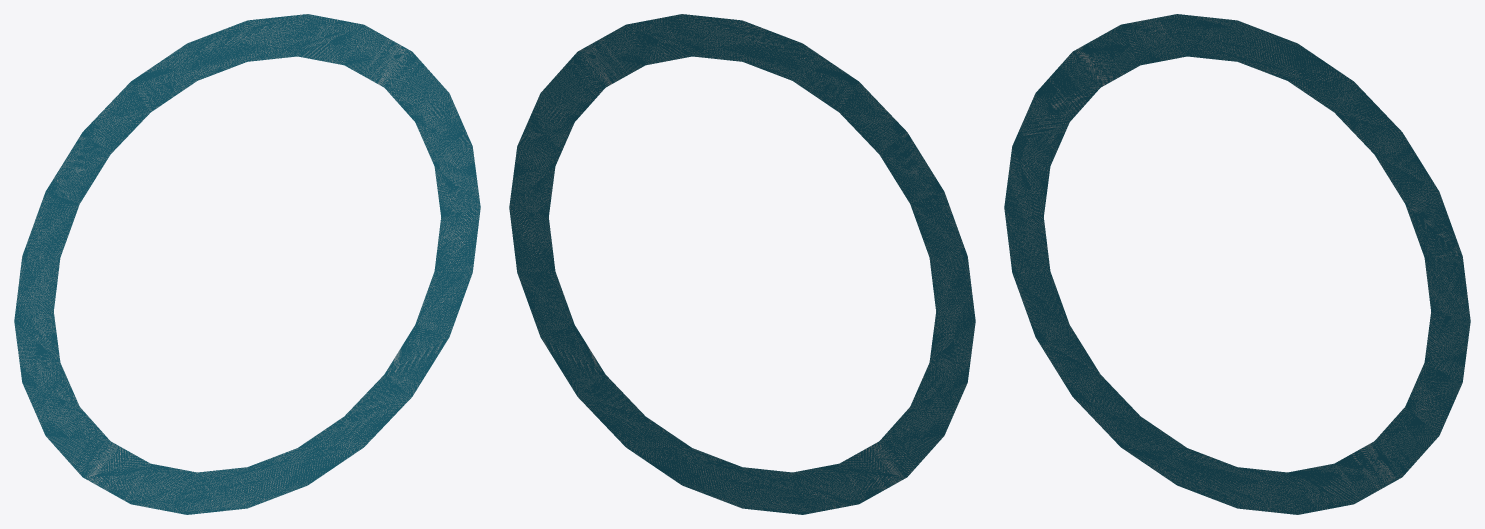
The model's file is original-11.obj.
3 renders of one model, left to right at view 1: azimuth 30°, elevation 25°; view 2: azimuth 150°, elevation 25°; view 3: azimuth 330°, elevation 25°, orthographic.
Parts seen in each view (by area): view 1: 3dw.7bdffa69c49eb1d7bf653fdedcac4c5b#4/Model/mesh9/mesh9-geometr; view 2: 3dw.7bdffa69c49eb1d7bf653fdedcac4c5b#4/Model/mesh9/mesh9-geometr; view 3: 3dw.7bdffa69c49eb1d7bf653fdedcac4c5b#4/Model/mesh9/mesh9-geometr.
Boxes of the visible parts, x1,y1,x2,y2 form: 3dw.7bdffa69c49eb1d7bf653fdedcac4c5b#4/Model/mesh9/mesh9-geometr: [14, 14, 480, 514]; 3dw.7bdffa69c49eb1d7bf653fdedcac4c5b#4/Model/mesh9/mesh9-geometr: [509, 14, 975, 514]; 3dw.7bdffa69c49eb1d7bf653fdedcac4c5b#4/Model/mesh9/mesh9-geometr: [1004, 14, 1470, 514].
Size of the model in its own units: 0.0517 by 0.0517 by 0.
